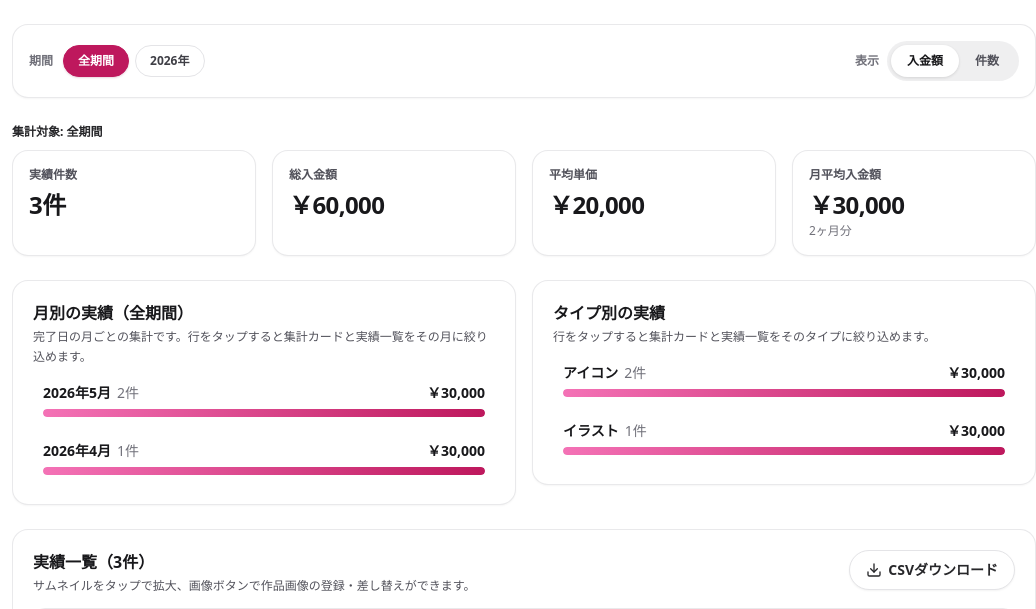
it: ResultsBoard type filter and summary tiles (Q-14) › combines with a month: tiles count only that type within that month
Click the button "2026年4月1件 ￥30,000" at point(77, 450), box [33,432,495,482]
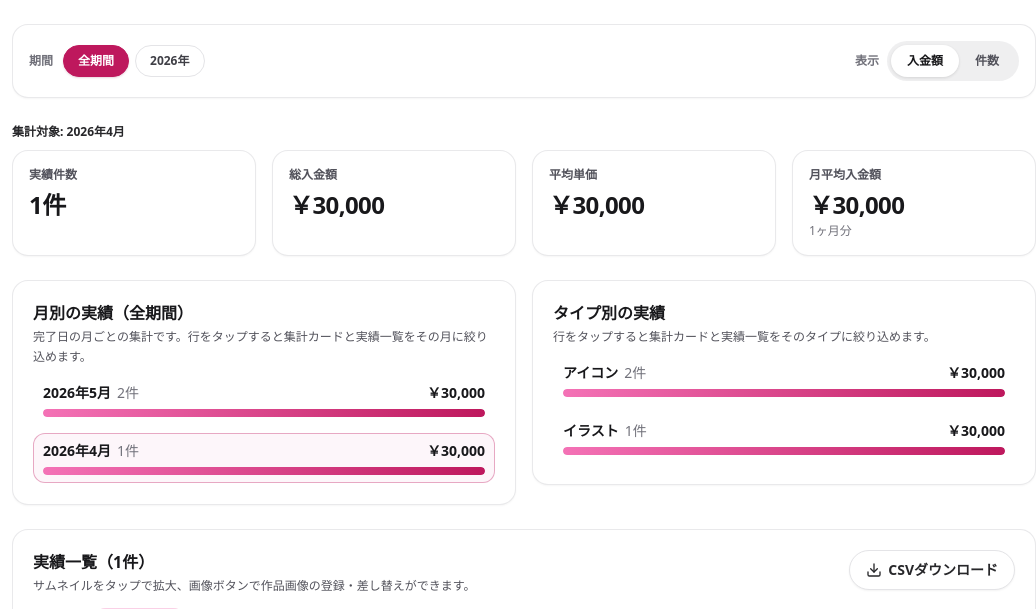
Click the button "アイコン2件 ￥30,000" at point(591, 372), box [553,355,1015,405]
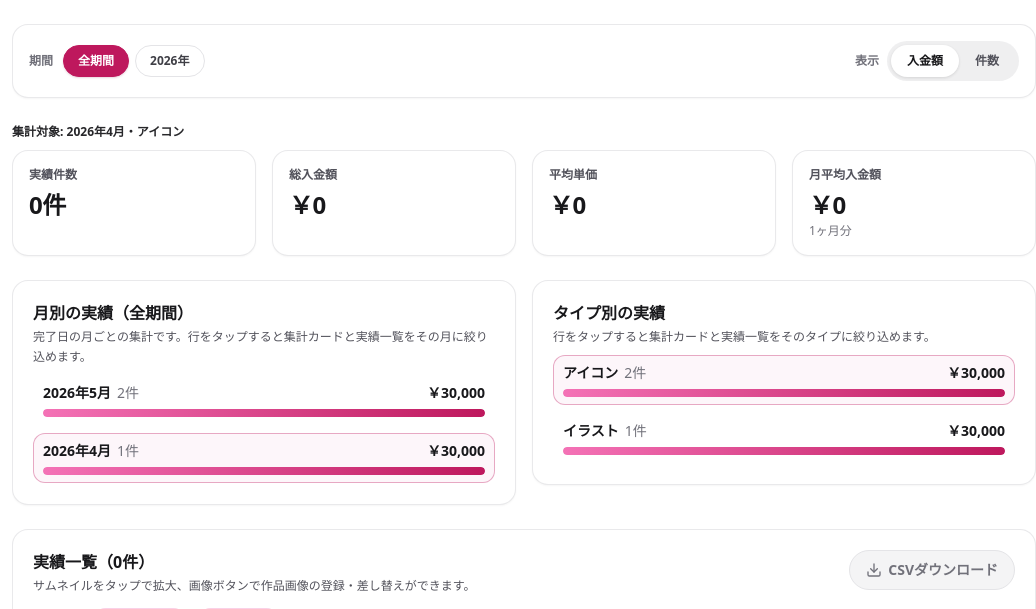
Now the text "集計対象: 2026年4月・アイコン" is shown, box [12,123,184,140]
Now the heading "実績一覧（0件）" is shown, box [33,551,154,573]
